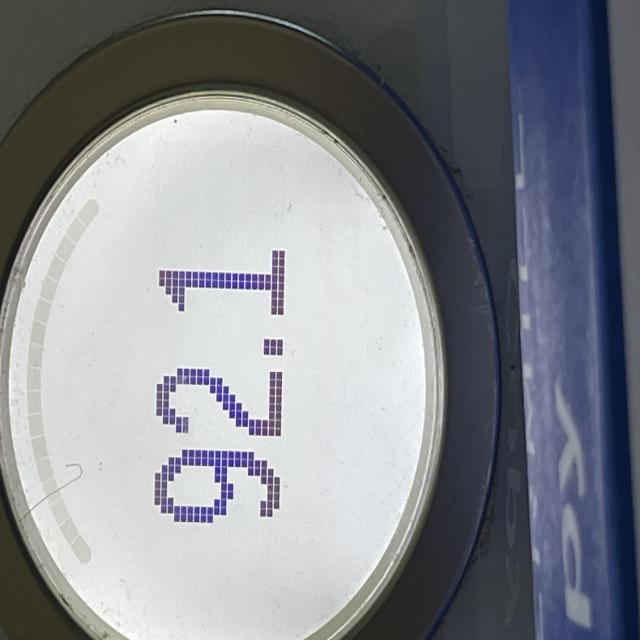ws: (0, 15, 470, 640)
